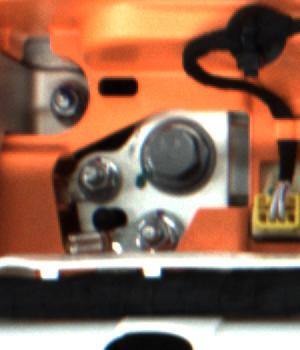nut_b: (136, 111, 211, 191)
